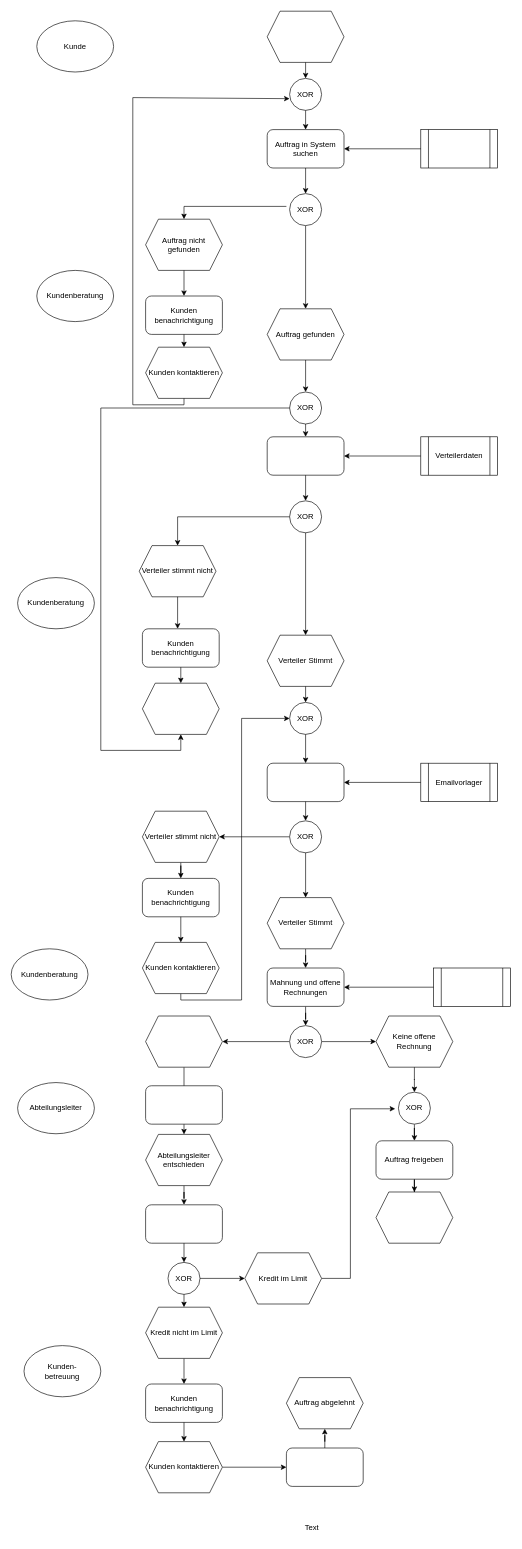
This 522x1549 diagram has some shape labels left out. The shapes that lost their labels are listed below. From the top down, each one's centre as x and y in pixels, then its label:
At (x=305, y=36): "Auftrag freigabe ist eingetroffen".
At (x=459, y=148): "Auftragsnummer".
At (x=305, y=455): "Verteiler prüfen".
At (x=180, y=708): "Kunden kontaktiert".
At (x=305, y=782): "Vorlagen prüfen".
At (x=471, y=986): "Zahlungs-information".
At (x=183, y=1041): "Offene Rechnung".
At (x=183, y=1104): "Abteilungsleiter kontaktieren".
At (x=183, y=1223): "Kreditwürdigkeit prüfen".
At (x=414, y=1217): "Auftrag ist frei".
At (x=324, y=1466): "Auftrag ablehnen".
